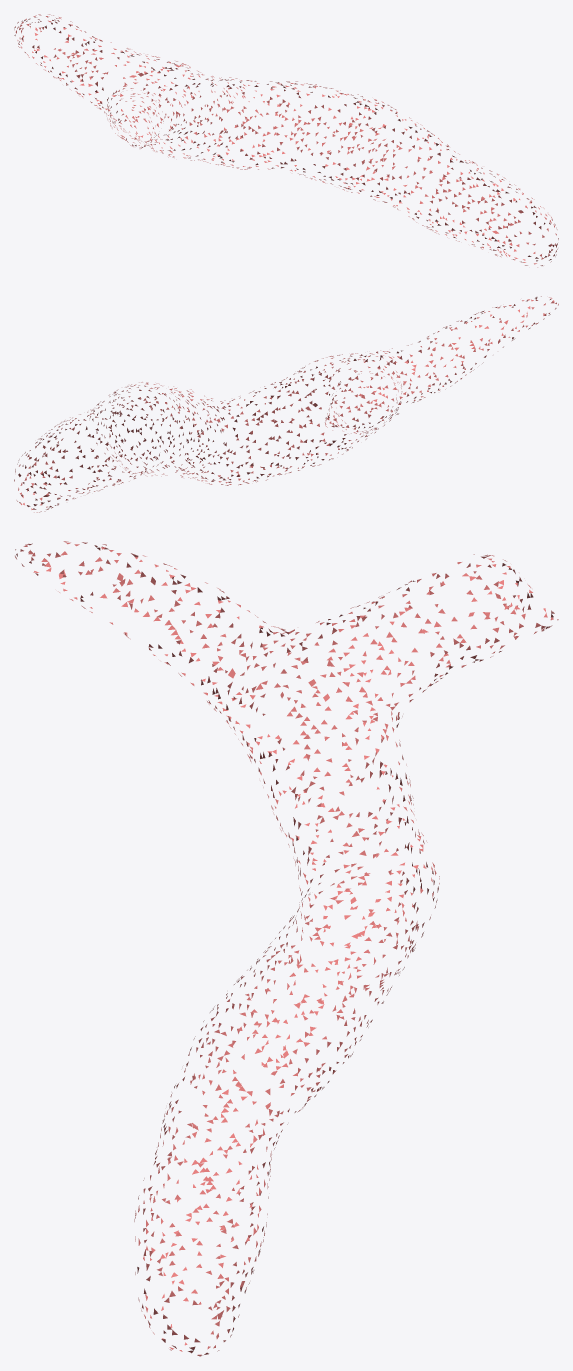
The model's file is morph_000.glb.
3 renders of one model, top to bottom at view 1: azimuth 30°, elevation 25°; view 2: azimuth 150°, elevation 25°; view 3: azimuth 270°, elevation 25°, orthographic. The views are drawn at different scales.
Size of the model in its own units: 95.92 by 55.63 by 58.85.
